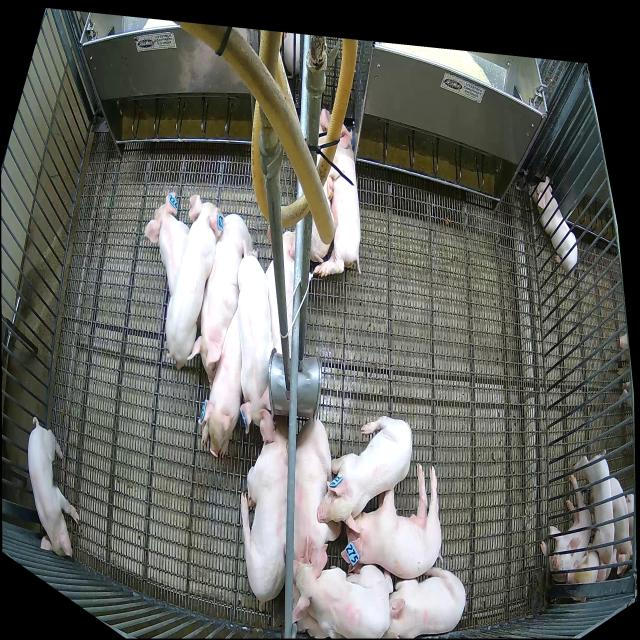pig: (341, 461, 442, 580), (188, 214, 254, 389), (317, 416, 412, 532), (165, 195, 224, 369), (240, 409, 288, 601), (292, 547, 392, 637), (27, 417, 79, 559), (313, 124, 361, 277), (293, 418, 340, 572), (238, 247, 274, 435), (199, 309, 242, 459), (292, 569, 382, 640), (382, 566, 466, 638), (144, 192, 190, 296), (266, 228, 295, 359), (310, 110, 334, 260)
